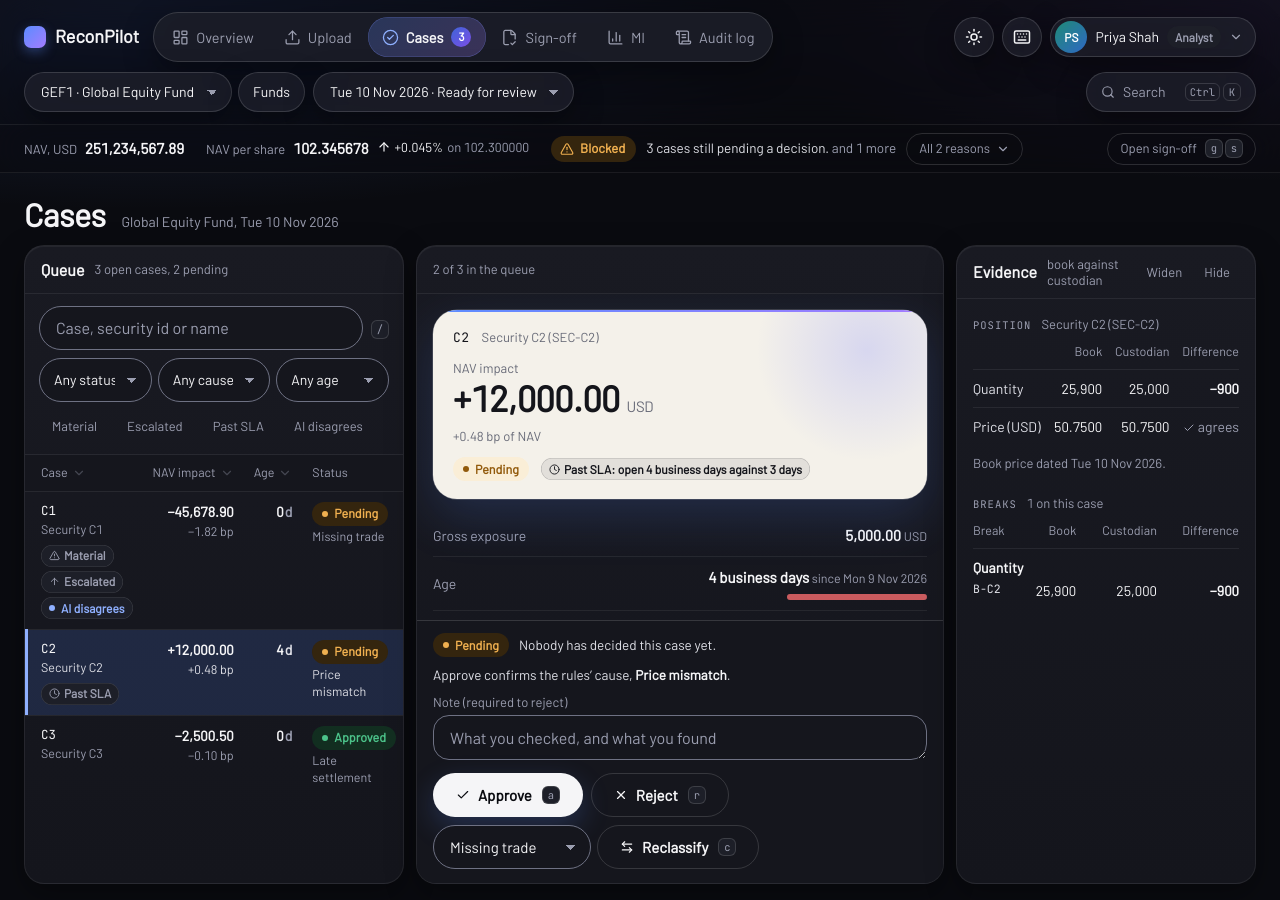
case workbench › explains a locked day and closes the bar once the day is signed off
The width and height of the screenshot is (1280, 900).
Click the button "Approve a" at (508, 795), box [433,773,583,817]
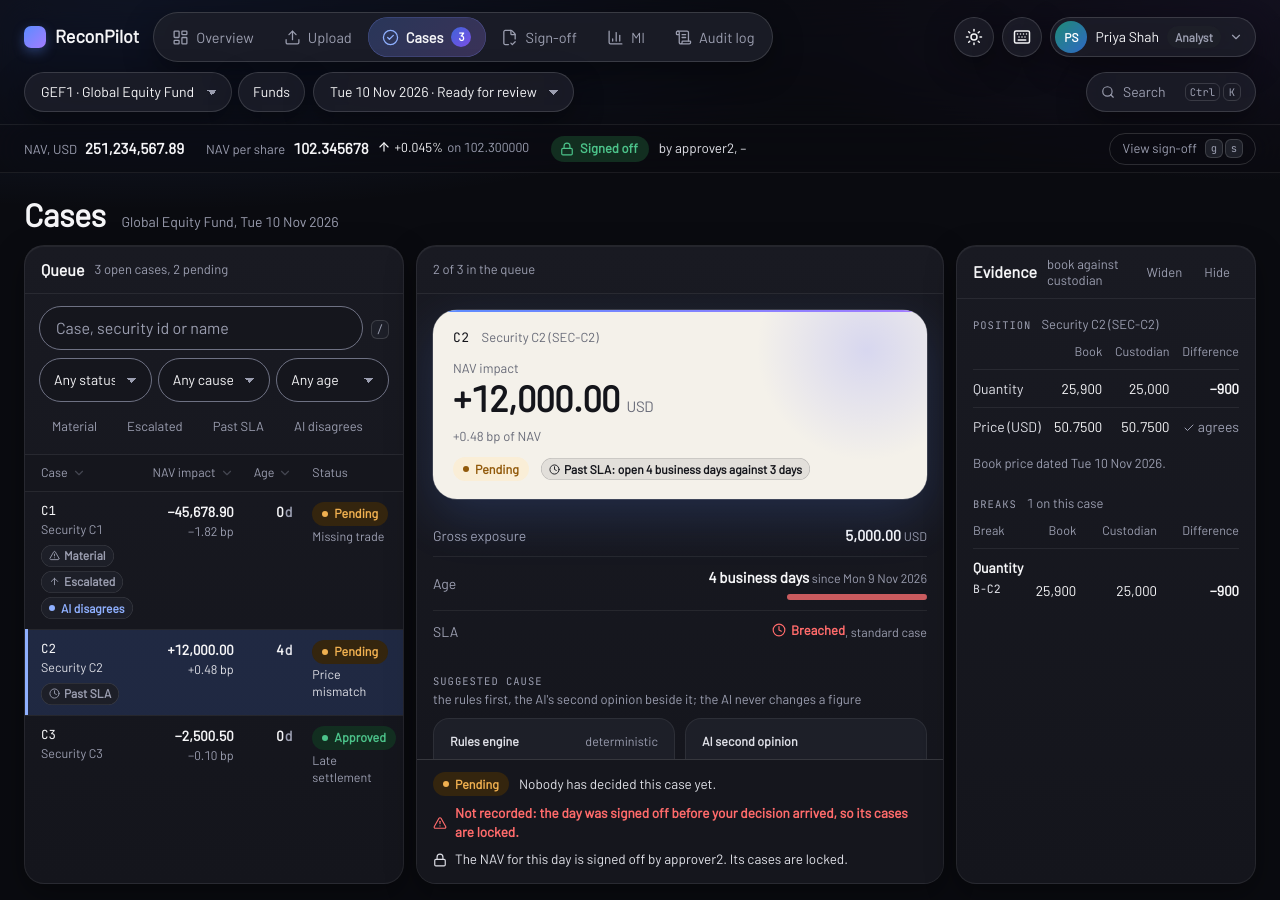
Result: the text "the day was signed off before your decision arrived" is shown at [455,804,908,840]
Result: the text "signed off by approver2. Its cases are locked." is shown at [455,850,848,867]
